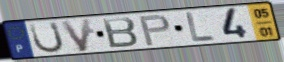4: (221, 6, 253, 41)
B: (100, 16, 141, 50)
L: (184, 11, 217, 43)
P: (137, 14, 172, 48)
U: (28, 21, 66, 55)
V: (58, 17, 93, 53)
